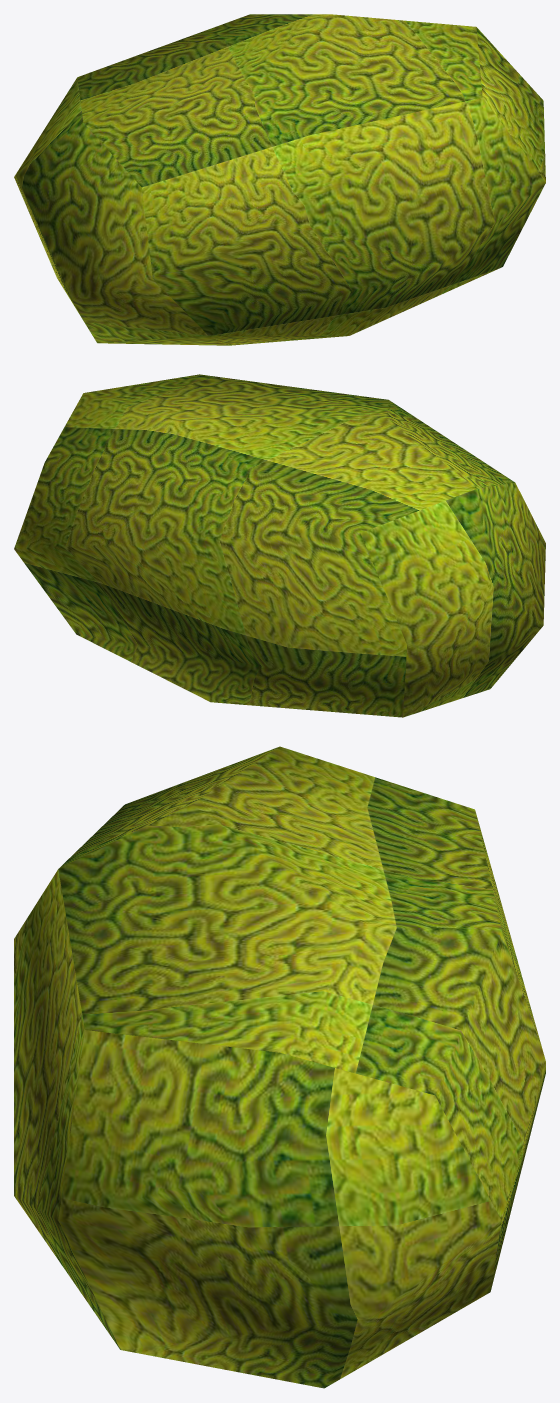
Rendered from coral001.fbx.
The picture shows the model from 3 angles, top to bottom: view 1: azimuth 30°, elevation 25°; view 2: azimuth 150°, elevation 25°; view 3: azimuth 270°, elevation 25°; orthographic projection. The views are drawn at different scales.
Visible parts, largest first — view 1: Cube; view 2: Cube; view 3: Cube.
Part boxes in pixels (x1,y1,x2,y2): Cube: (14,14,545,345); Cube: (14,374,545,717); Cube: (14,746,545,1388).
Bounding box in the file's own units: 327 × 167 × 200.
